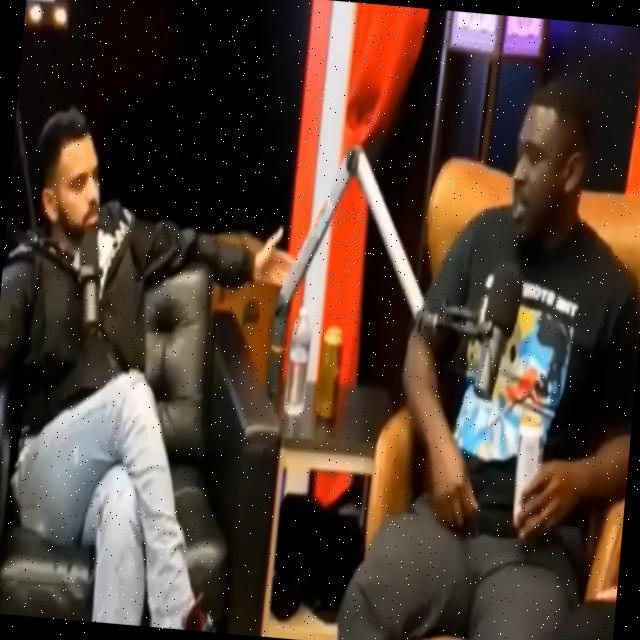person: (340, 79, 640, 640), (0, 116, 229, 629)
